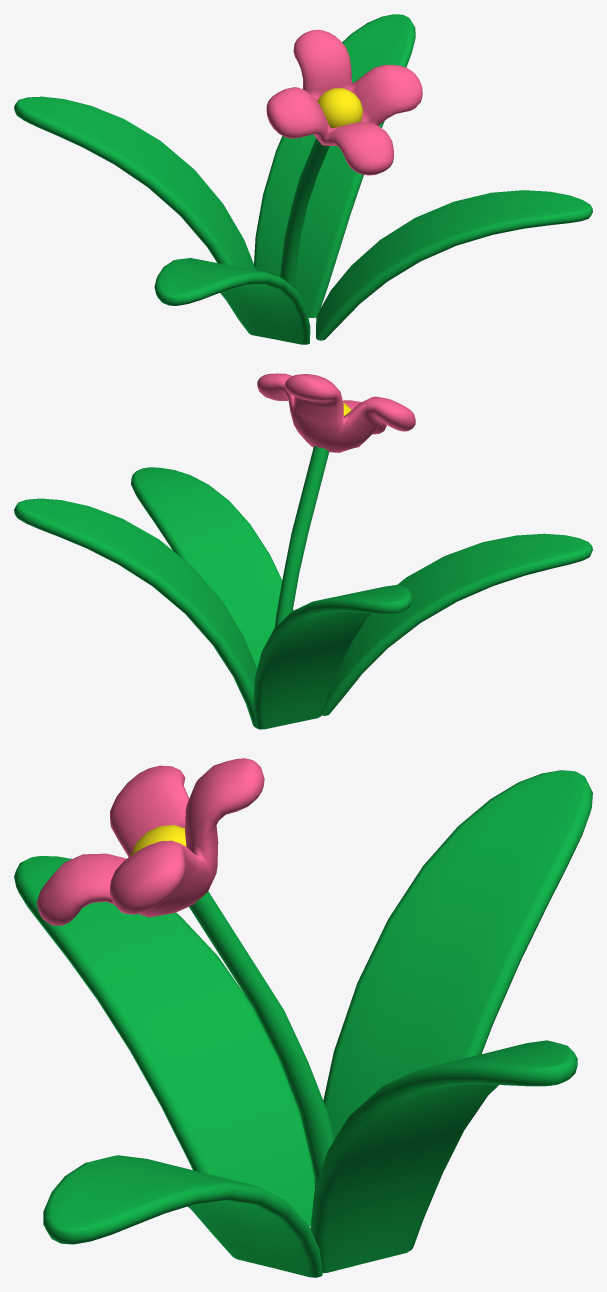
Rendered from Town_15_Plant_with_Flowers_1.glb.
3 renders of one model, top to bottom at view 1: azimuth 30°, elevation 25°; view 2: azimuth 150°, elevation 25°; view 3: azimuth 270°, elevation 25°, orthographic. The views are drawn at different scales.
Visible parts, largest first — view 1: Town_15_Plant_with_Flowers_1; view 2: Town_15_Plant_with_Flowers_1; view 3: Town_15_Plant_with_Flowers_1.
Part boxes in pixels (x1,y1,x2,y2): Town_15_Plant_with_Flowers_1: (14, 14, 592, 344); Town_15_Plant_with_Flowers_1: (14, 373, 592, 729); Town_15_Plant_with_Flowers_1: (14, 758, 592, 1277).
Bounding box in the file's own units: 0.9858 × 0.6583 × 0.707.
Materials: 1 (1 with a texture image).
